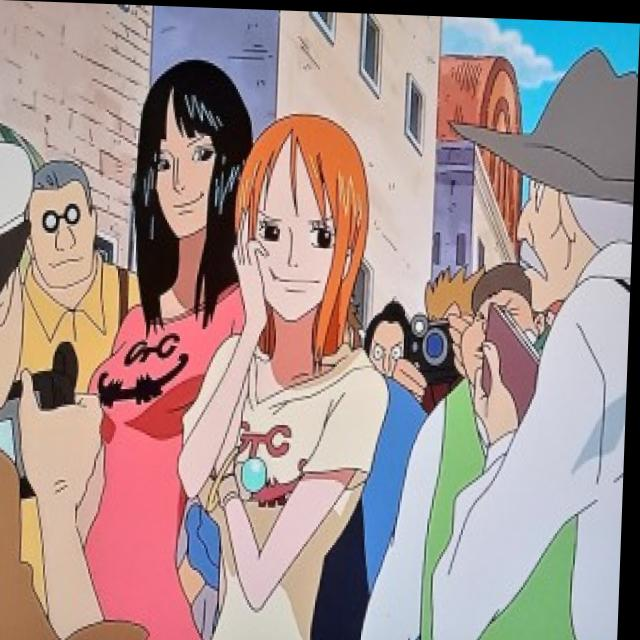Nami: (229, 105, 377, 339)
NicoRobin: (119, 42, 266, 297)
